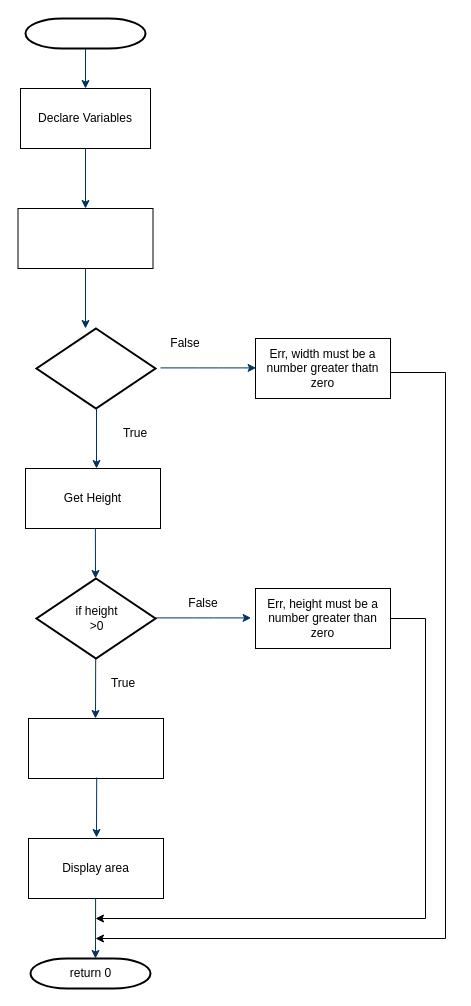
The diagram is 471 pixels wide and 1006 high, and some of its shapes have lost their labels. The shapes that lost their labels are listed below. From the top down, each one's centre as x and y in pixels, then its label:
point 85,33: main()
point 85,238: Get Width
point 95,368: if width >0
point 96,748: Calculate area
